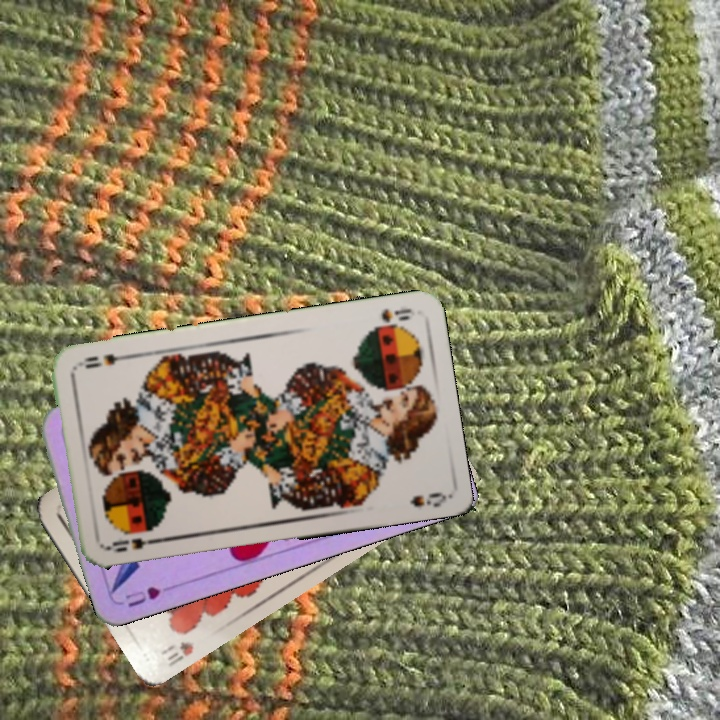H10: (157, 637, 197, 670)
HU: (120, 582, 163, 610)
SO: (101, 534, 160, 555), (377, 304, 414, 325)
